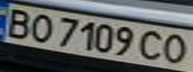0: (93, 21, 115, 54)
1: (75, 19, 96, 52)
7: (51, 15, 78, 48)
9: (112, 24, 139, 57)
B: (0, 6, 36, 39)
C: (136, 28, 169, 62)
O: (157, 32, 193, 65), (24, 11, 57, 44)
